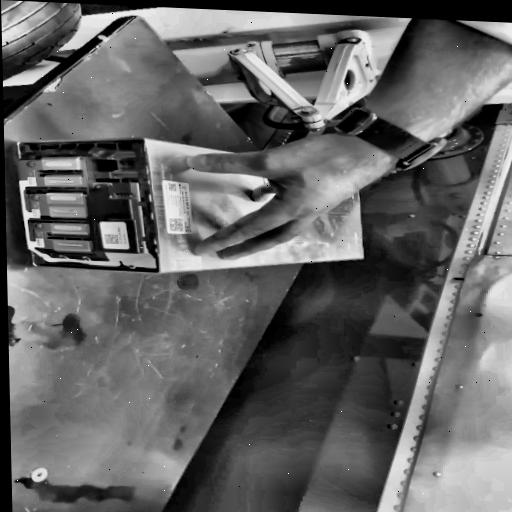battery_module: (15, 139, 362, 273)
